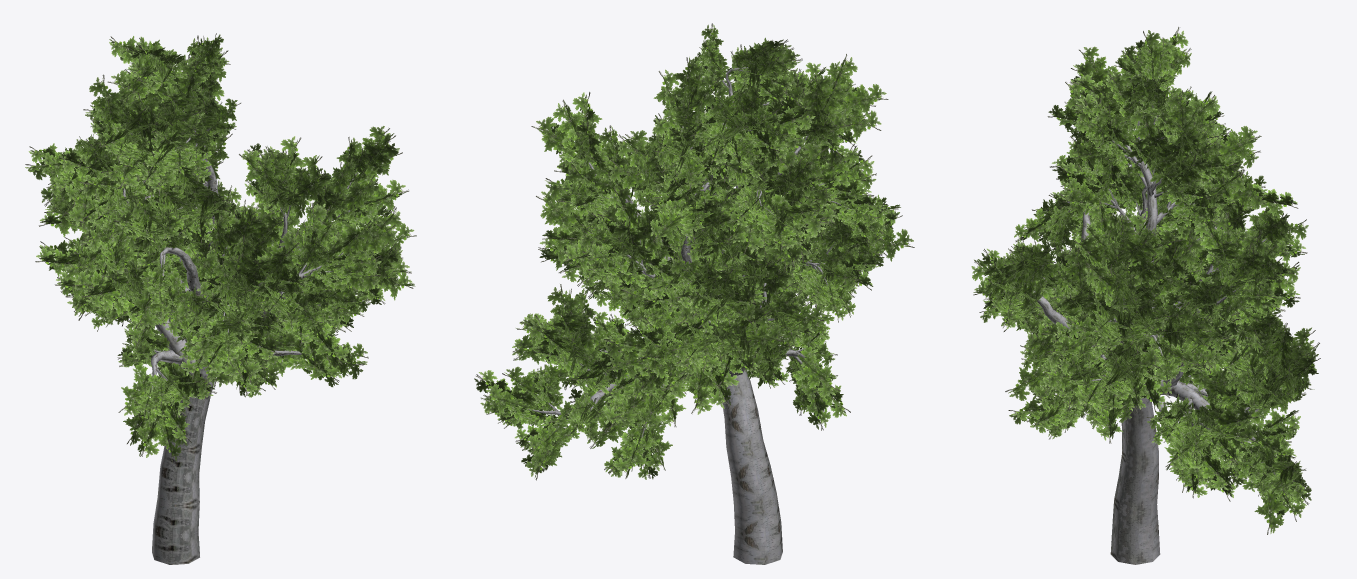
The model's file is eztree-american-sycamore-damp-b.glb.
3 views of the same model, side by side, from view 1: azimuth 30°, elevation 25°; view 2: azimuth 150°, elevation 25°; view 3: azimuth 270°, elevation 25° (orthographic). The views are drawn at different scales.
Visible parts, largest first — view 1: eztree-american-sycamore-damp-b; view 2: eztree-american-sycamore-damp-b; view 3: eztree-american-sycamore-damp-b.
Part boxes in pixels (x1=…): eztree-american-sycamore-damp-b: x1=25, y1=33, x2=416, y2=564; eztree-american-sycamore-damp-b: x1=474, y1=23, x2=914, y2=564; eztree-american-sycamore-damp-b: x1=971, y1=27, x2=1320, y2=564.
Bounding box in the file's own units: 53.36 × 74.61 × 50.1.
2 materials, 2 textured.
